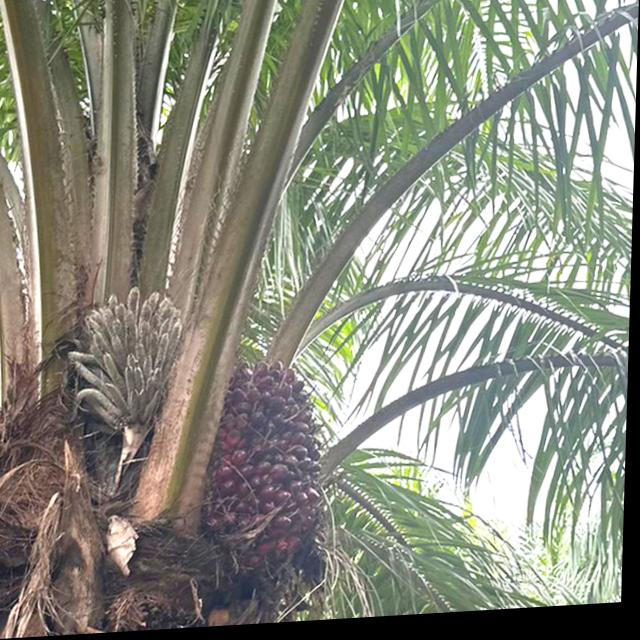ripe: (208, 355, 335, 564)
